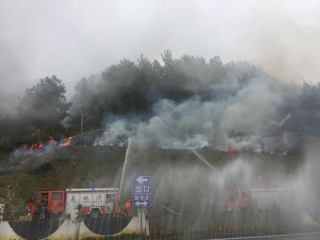smoke: (117, 63, 297, 157)
